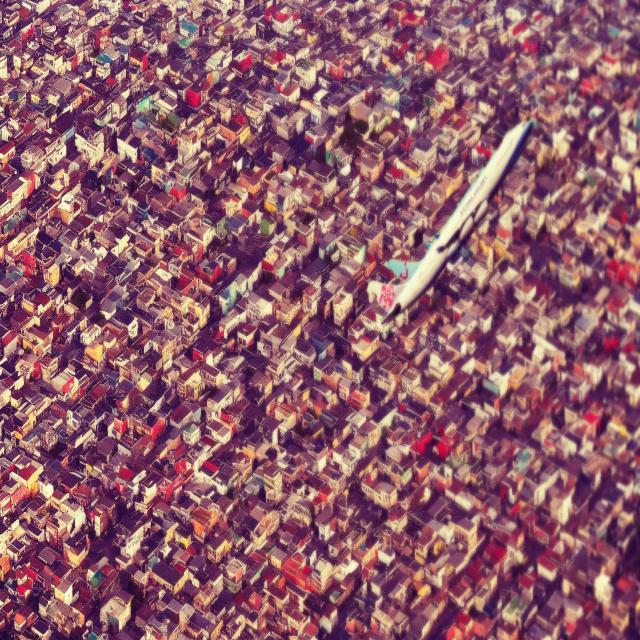airplane: (361, 117, 534, 335)
